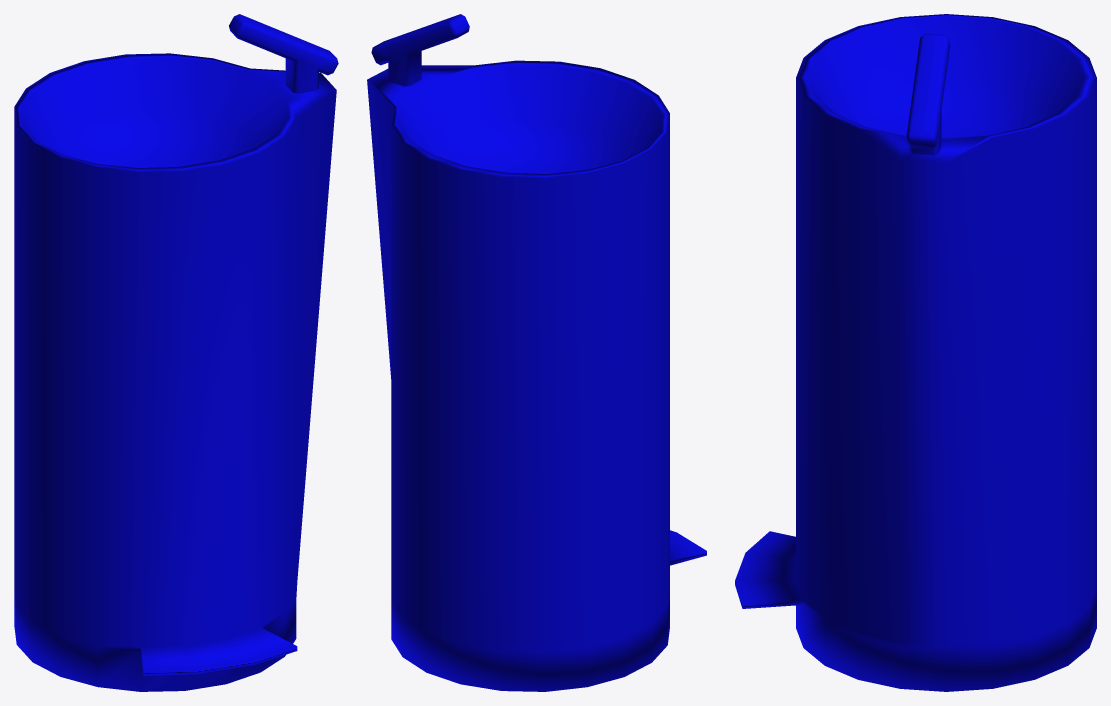
Rendered from Fontaine.fbx.
3 renders of one model, left to right at view 1: azimuth 30°, elevation 25°; view 2: azimuth 150°, elevation 25°; view 3: azimuth 270°, elevation 25°, orthographic. The views are drawn at different scales.
Parts seen in each view (by area): view 1: lavabo; view 2: lavabo; view 3: lavabo.
Boxes of the visible parts, x1,y1,x2,y2 form: lavabo: [14, 14, 338, 691]; lavabo: [367, 14, 706, 691]; lavabo: [735, 14, 1096, 691].
Size of the model in its own units: 0.5817 by 1.14 by 0.5898.
